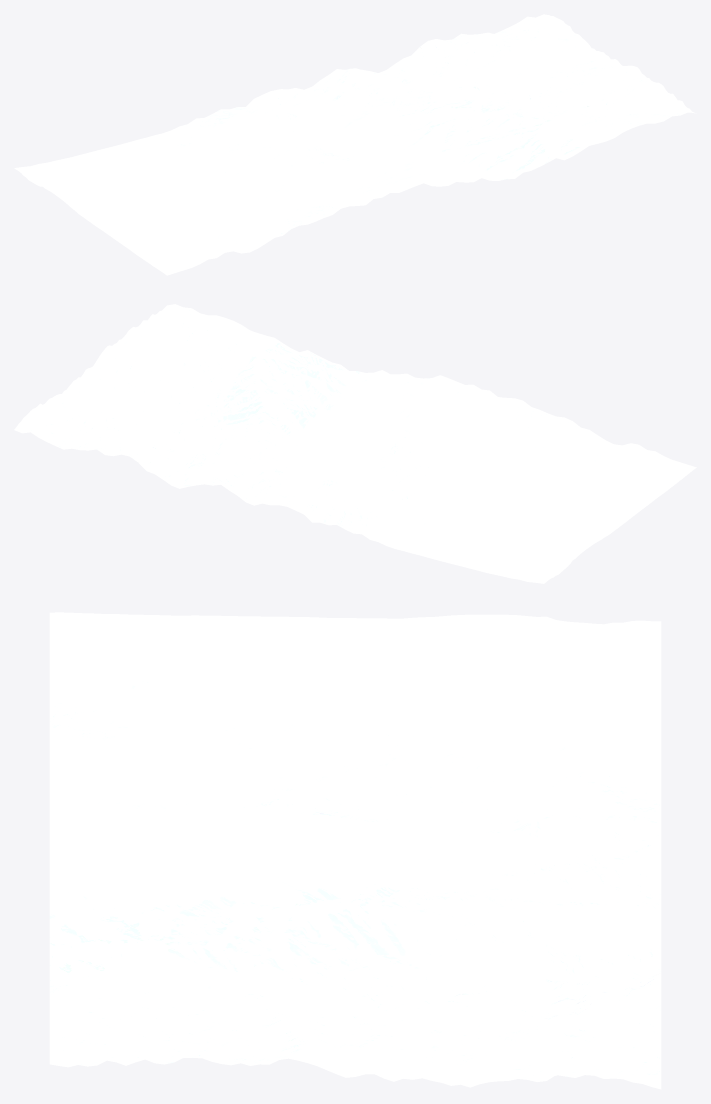
Rendered from hushan.glb.
The picture shows the model from 3 angles, top to bottom: view 1: azimuth 30°, elevation 25°; view 2: azimuth 150°, elevation 25°; view 3: azimuth 270°, elevation 25°; orthographic projection. The views are drawn at different scales.
Parts seen in each view (by area): view 1: EXPORT_GOOGLE_SAT_WM.001; view 2: EXPORT_GOOGLE_SAT_WM.001; view 3: EXPORT_GOOGLE_SAT_WM.001.
Boxes of the visible parts, x1=… form: EXPORT_GOOGLE_SAT_WM.001: x1=14, y1=14, x2=696, y2=275; EXPORT_GOOGLE_SAT_WM.001: x1=14, y1=304, x2=696, y2=583; EXPORT_GOOGLE_SAT_WM.001: x1=49, y1=612, x2=661, y2=1089.
Bounding box in the file's own units: 88987 × 7004 × 44494.
Materials: 1 (1 with a texture image).
